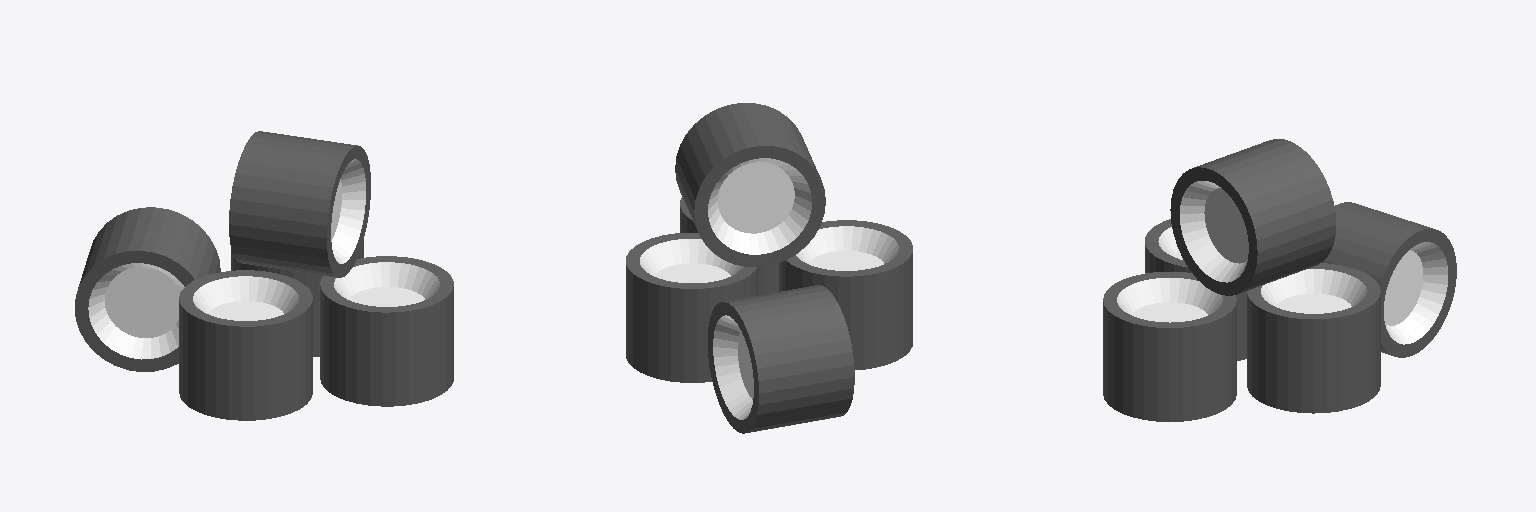
3 renders of one model, left to right at view 1: azimuth 30°, elevation 25°; view 2: azimuth 150°, elevation 25°; view 3: azimuth 270°, elevation 25°, orthographic.
Parts seen in each view (by area): view 1: TirePoint_Tire_Tire_円柱.001; view 2: TirePoint_Tire_Tire_円柱.001; view 3: TirePoint_Tire_Tire_円柱.001.
Part boxes in pixels (bbox=[...]): TirePoint_Tire_Tire_円柱.001: bbox=[75, 131, 453, 420]; TirePoint_Tire_Tire_円柱.001: bbox=[626, 103, 912, 433]; TirePoint_Tire_Tire_円柱.001: bbox=[1103, 139, 1456, 421].
Size of the model in its own units: 6.01 by 4.9 by 6.87.
1 materials, 1 textured.